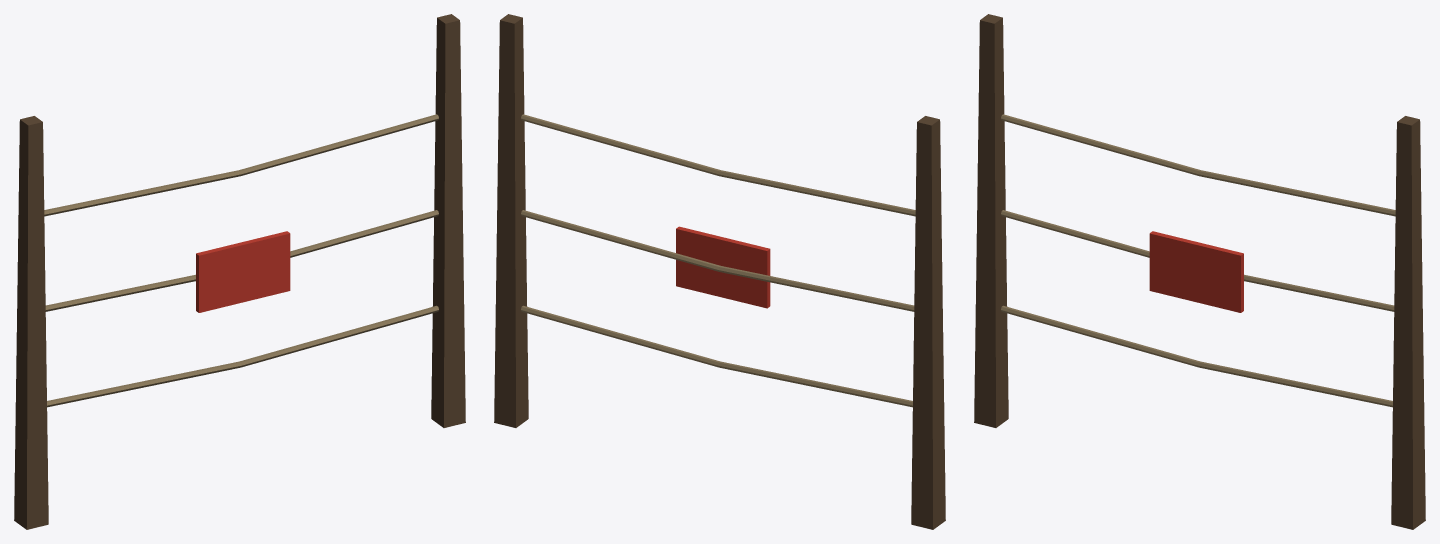
The model's file is fence_segment.glb.
The picture shows the model from 3 angles, left to right: view 1: azimuth 30°, elevation 25°; view 2: azimuth 150°, elevation 25°; view 3: azimuth 330°, elevation 25°; orthographic projection.
Parts seen in each view (by area): view 1: Fence_Post_L, Fence_Post_R, Fence_Sign, Fence_Rope_High, Fence_Rope_Low, Fence_Rope_Mid; view 2: Fence_Post_L, Fence_Post_R, Fence_Sign, Fence_Rope_High, Fence_Rope_Mid, Fence_Rope_Low; view 3: Fence_Post_R, Fence_Post_L, Fence_Sign, Fence_Rope_High, Fence_Rope_Low, Fence_Rope_Mid.
Part boxes in pixels (bbox=[...]): Fence_Post_L: bbox=[14, 116, 48, 529]; Fence_Post_R: bbox=[431, 14, 465, 427]; Fence_Sign: bbox=[196, 231, 290, 312]; Fence_Rope_High: bbox=[44, 114, 438, 216]; Fence_Rope_Low: bbox=[47, 305, 438, 407]; Fence_Rope_Mid: bbox=[45, 210, 438, 311]; Fence_Post_L: bbox=[911, 116, 945, 529]; Fence_Post_R: bbox=[494, 14, 528, 427]; Fence_Sign: bbox=[676, 226, 770, 308]; Fence_Rope_High: bbox=[521, 114, 915, 216]; Fence_Rope_Mid: bbox=[521, 210, 914, 311]; Fence_Rope_Low: bbox=[521, 305, 912, 407]; Fence_Post_R: bbox=[1391, 116, 1425, 529]; Fence_Post_L: bbox=[974, 14, 1008, 427]; Fence_Sign: bbox=[1149, 231, 1243, 312]; Fence_Rope_High: bbox=[1001, 114, 1395, 216]; Fence_Rope_Low: bbox=[1001, 305, 1392, 407]; Fence_Rope_Mid: bbox=[1001, 210, 1394, 311].
Bounding box in the file's own units: 2.4 × 2.1 × 0.12.
